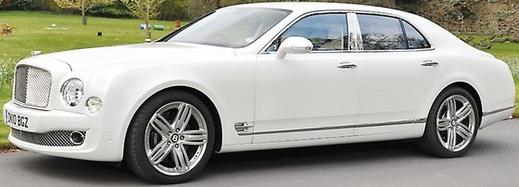front_view: (5, 58, 113, 169)
headlight: (58, 73, 105, 116)
side_glass: (257, 10, 438, 59)
